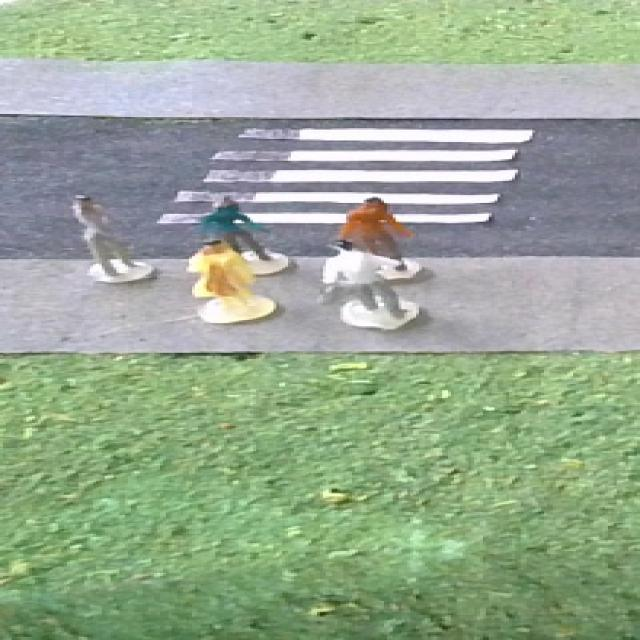person: (64, 188, 156, 287), (322, 238, 418, 330), (190, 238, 272, 325), (193, 194, 277, 241), (336, 190, 414, 240)
